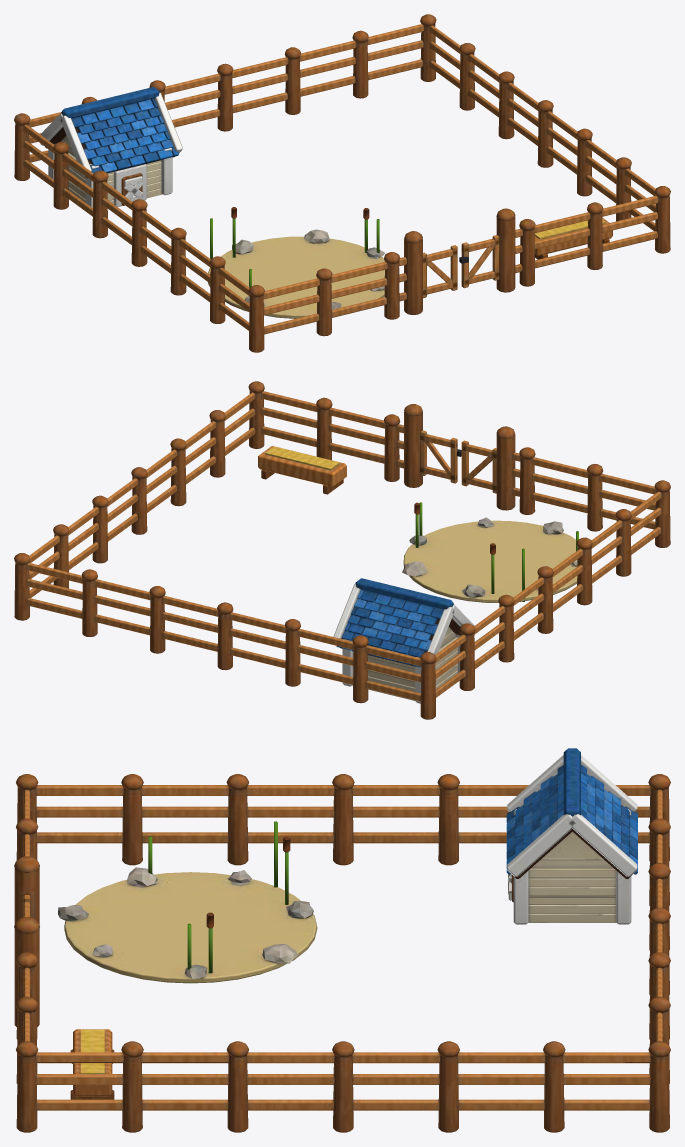
File: muscovy_pond.glb
The picture shows the model from 3 angles, top to bottom: view 1: azimuth 30°, elevation 25°; view 2: azimuth 150°, elevation 25°; view 3: azimuth 270°, elevation 25°; orthographic projection. The views are drawn at different scales.
Parts seen in each view (by area): view 1: muscovy_pond, gate1, gate0; view 2: muscovy_pond, gate1, gate0; view 3: muscovy_pond.
Part boxes in pixels (box(x1,y1,x2,y2)): muscovy_pond: box(14, 14, 670, 352); gate1: box(459, 235, 499, 288); gate0: box(423, 245, 457, 298); muscovy_pond: box(14, 381, 670, 719); gate1: box(420, 430, 461, 483); gate0: box(461, 440, 496, 493); muscovy_pond: box(14, 748, 670, 1132).
Bounding box in the file's own units: 3 × 0.615 × 3.01.
1 material, 1 textured.
